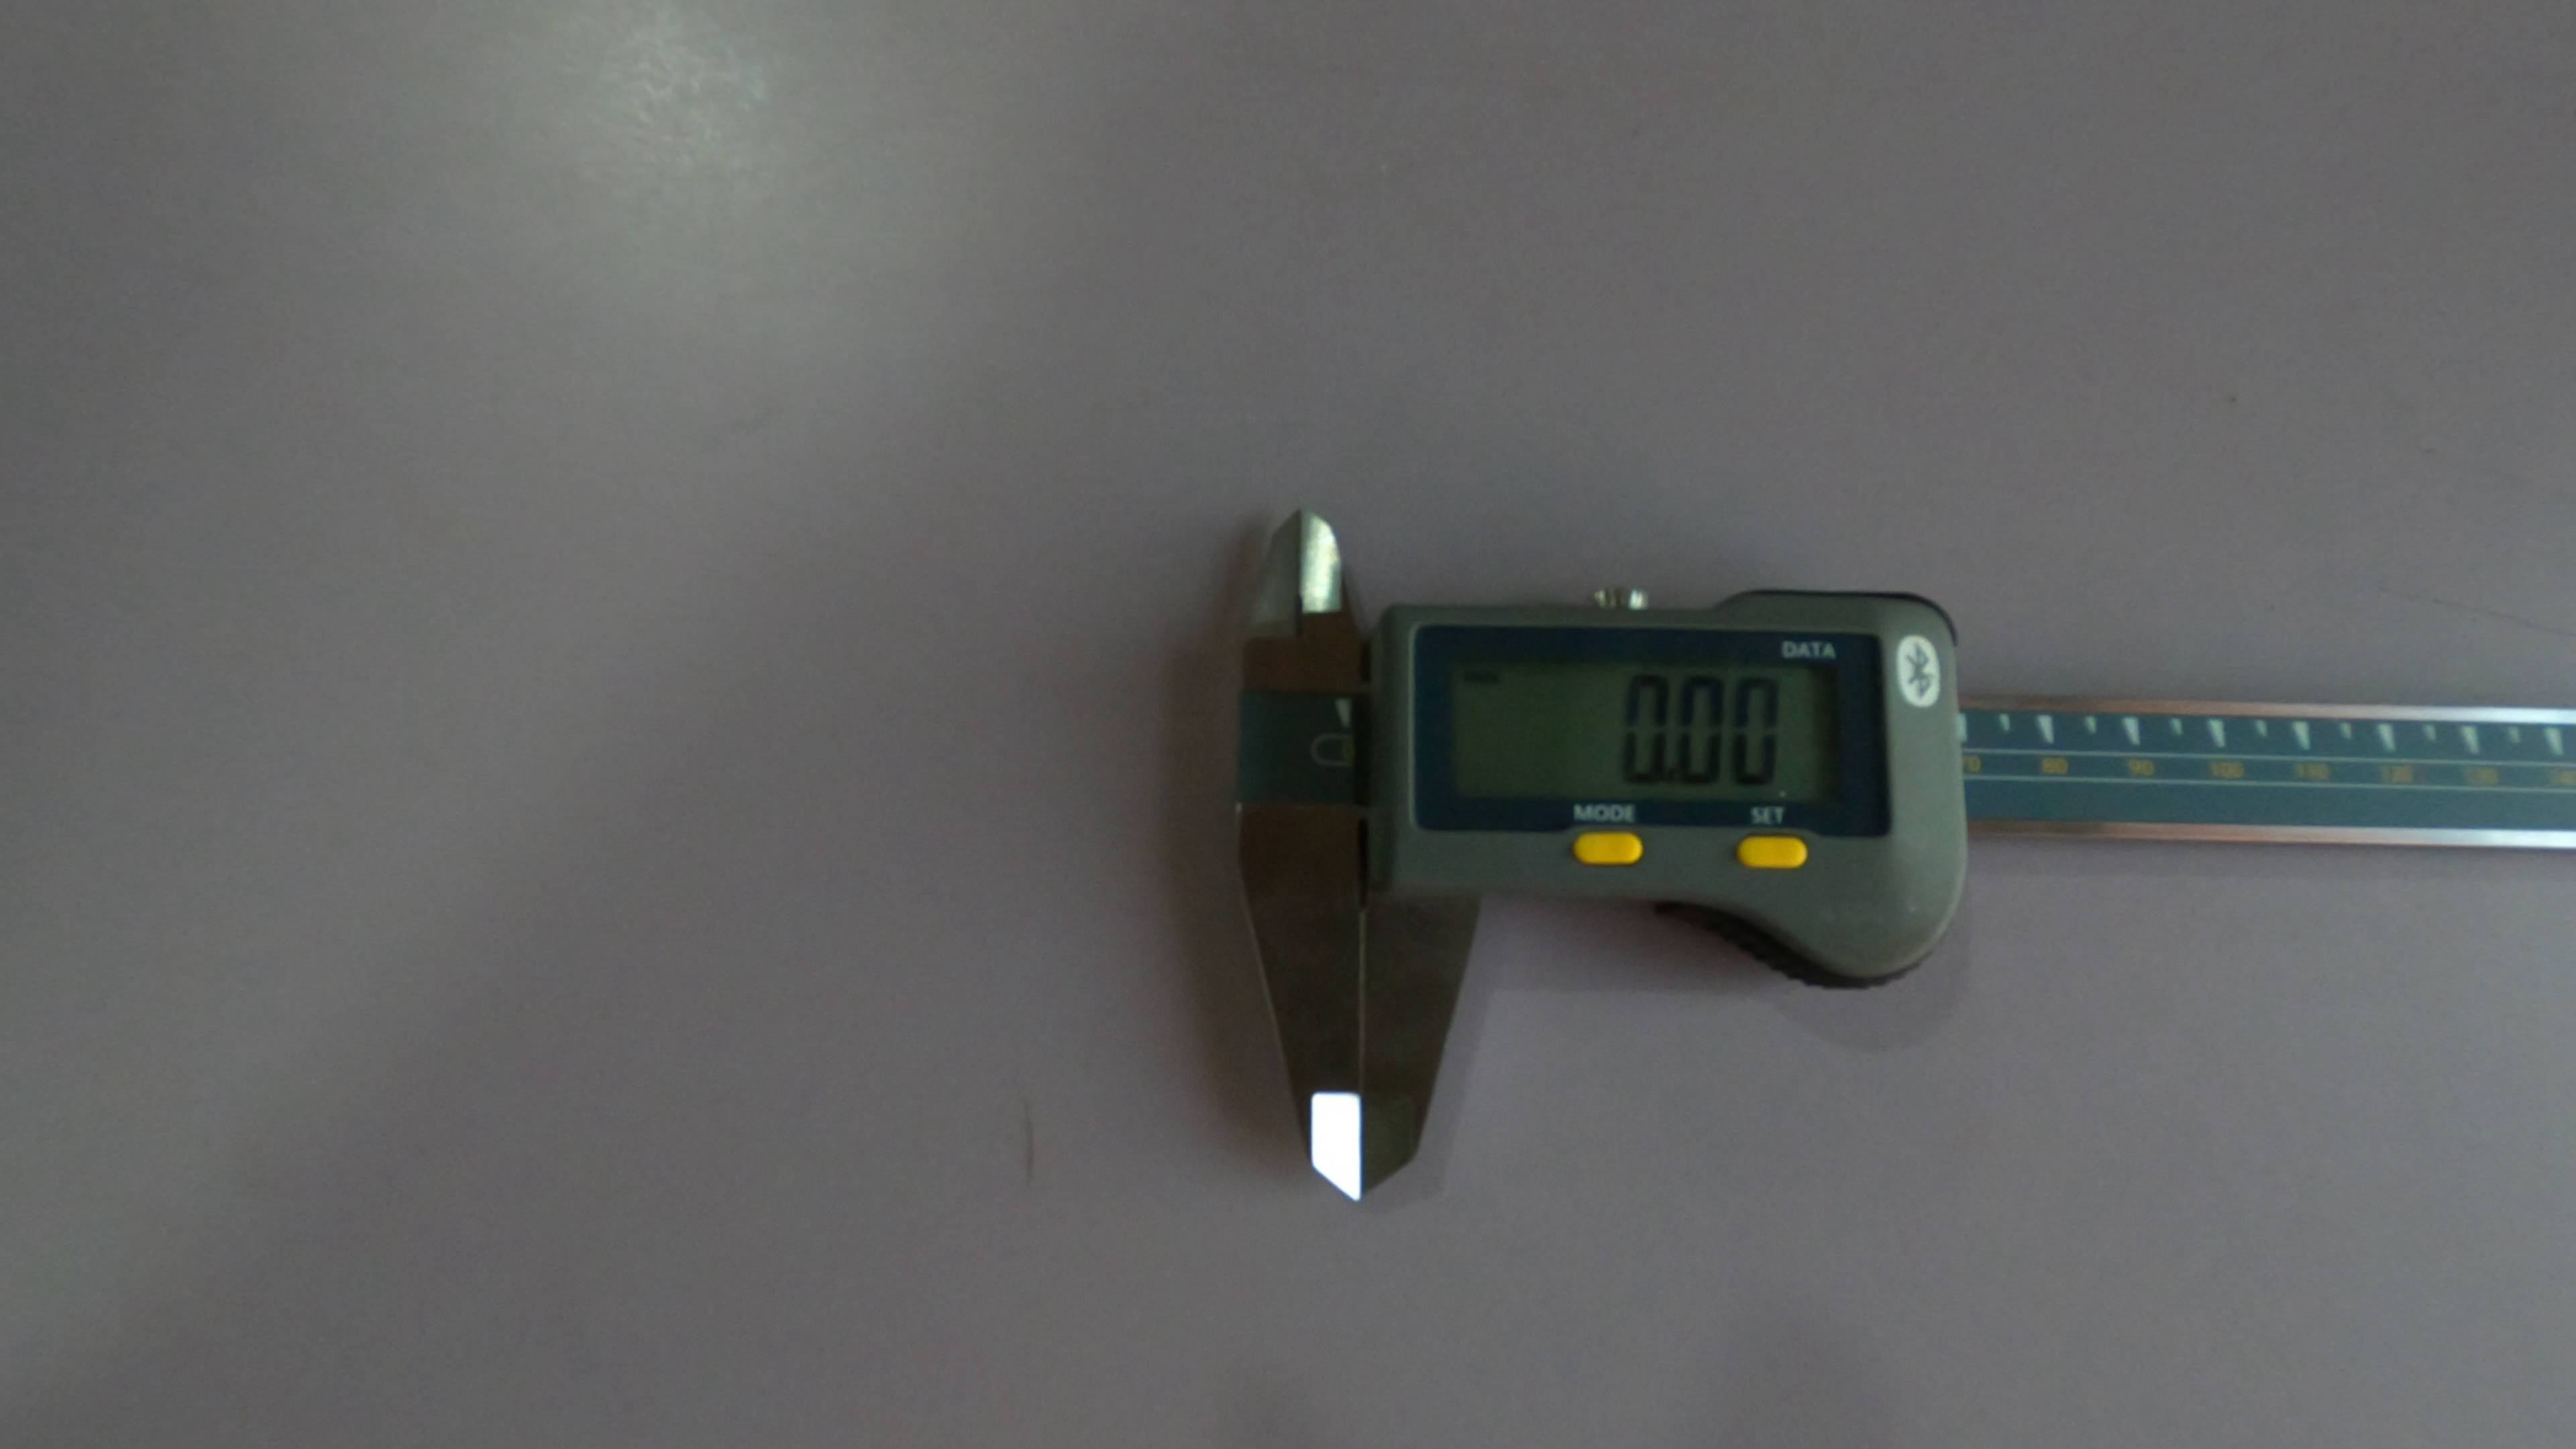vernier_caliper: (1235, 508, 2576, 1198)
